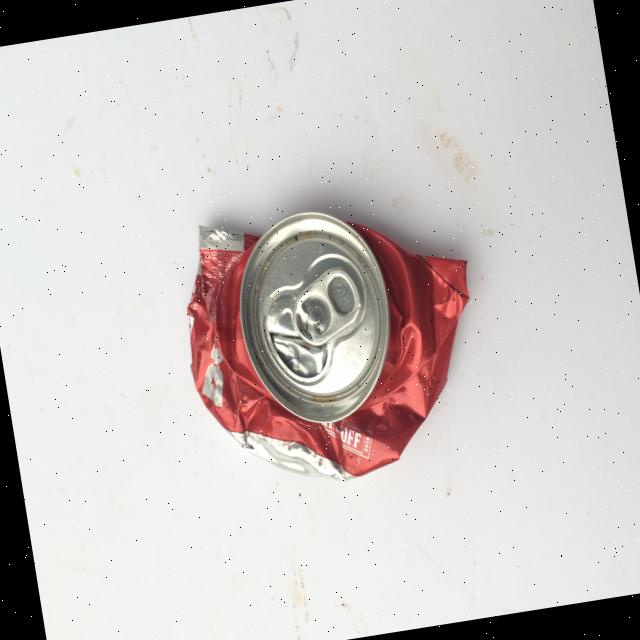metal: (225, 200, 406, 434)
